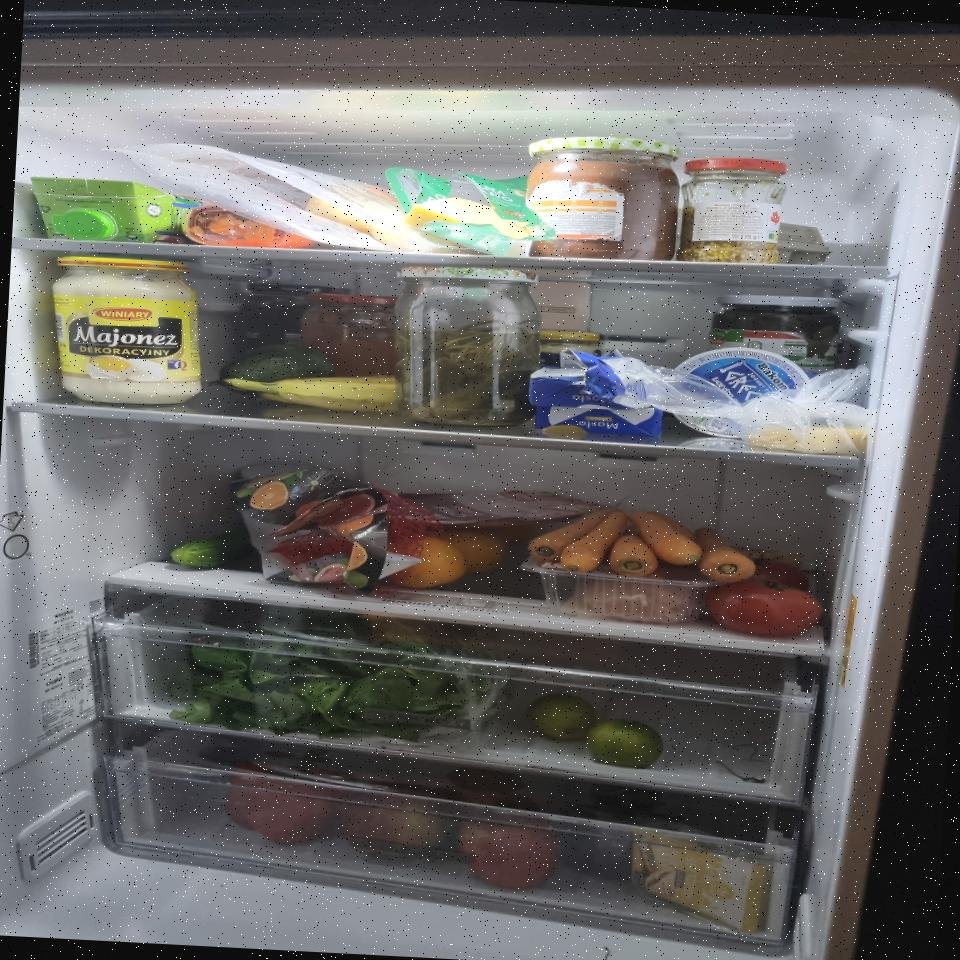Aguacate: (226, 342, 336, 390)
Carne pollo: (552, 574, 702, 627)
Huevos: (775, 222, 832, 268)
Lechuga/Endivia: (169, 597, 519, 750)
Mantequilla: (524, 350, 672, 410), (542, 400, 662, 438)
Manzana: (340, 786, 450, 863), (456, 810, 559, 890)
Pepino: (164, 533, 254, 573)
Plátano: (219, 369, 412, 416)
Queso: (628, 828, 770, 935), (402, 196, 532, 258), (747, 424, 867, 456)
Tomate: (713, 584, 823, 640)
Yogur: (668, 345, 824, 443)
Zanahoria: (536, 502, 755, 583)
